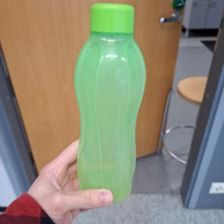bottle: (73, 3, 147, 205)
